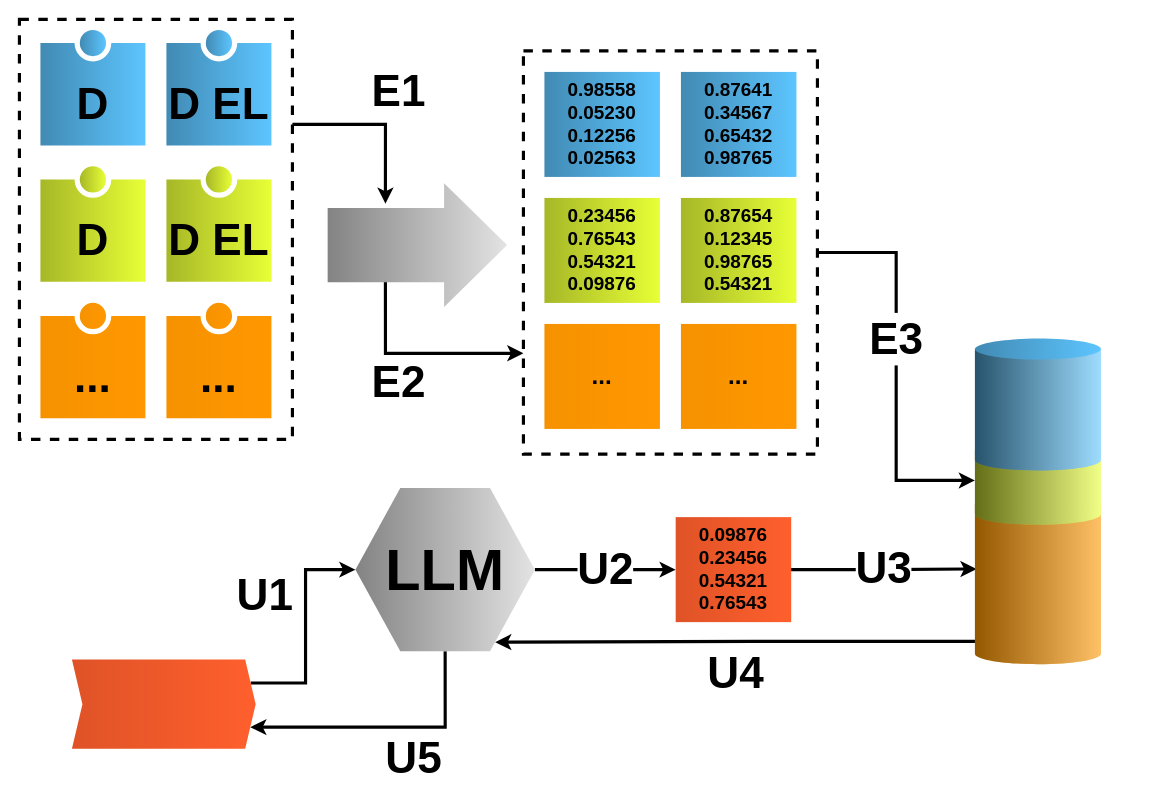
Some shapes in this 1167 by 803 pixel diagram are drawn without their labels. Each missing label, with the centre of its shape:
EM API: the point at 417,244
USER PROMPT: the point at 163,703
Vector DB: the point at 1037,578
